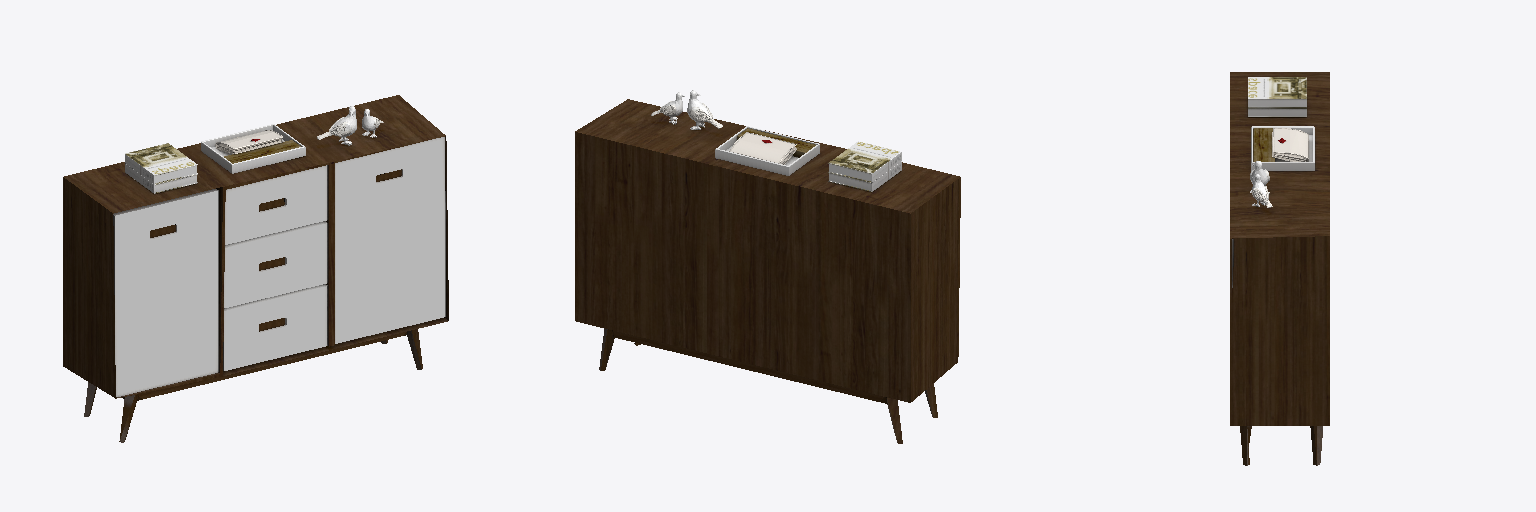
The picture shows the model from 3 angles: view 1: azimuth 30°, elevation 25°; view 2: azimuth 150°, elevation 25°; view 3: azimuth 270°, elevation 25°; orthographic projection.
Parts seen in each view (by area): view 1: solid_006, solid_007, solid_002, solid_010, solid_005, solid_001, solid_003, solid_011, solid_009; view 2: solid_007, solid_002, solid_010, solid_005, solid_001, solid_011, solid_009; view 3: solid_007, solid_010, solid_005, solid_002, solid_001, solid_003.
Part boxes in pixels (left/top/right/bottom): solid_006: left=113, top=137, right=445, bottom=396; solid_007: left=63, top=95, right=448, bottom=442; solid_002: left=201, top=124, right=305, bottom=173; solid_010: left=125, top=143, right=197, bottom=193; solid_005: left=215, top=130, right=283, bottom=153; solid_001: left=155, top=166, right=196, bottom=192; solid_003: left=224, top=140, right=300, bottom=163; solid_011: left=330, top=106, right=376, bottom=145; solid_009: left=125, top=154, right=154, bottom=193; solid_007: left=575, top=99, right=960, bottom=443; solid_002: left=715, top=126, right=819, bottom=175; solid_010: left=828, top=141, right=900, bottom=191; solid_005: left=729, top=132, right=796, bottom=164; solid_001: left=829, top=164, right=871, bottom=190; solid_011: left=662, top=90, right=712, bottom=129; solid_009: left=872, top=152, right=901, bottom=191; solid_007: left=1230, top=72, right=1329, bottom=465; solid_010: left=1248, top=77, right=1306, bottom=108; solid_005: left=1272, top=128, right=1308, bottom=161; solid_002: left=1251, top=126, right=1314, bottom=170; solid_001: left=1248, top=99, right=1306, bottom=116; solid_003: left=1253, top=128, right=1274, bottom=161.
Bounding box in the file's own units: 1.3 × 1.01 × 0.3385.
Materials: 1 (1 with a texture image).